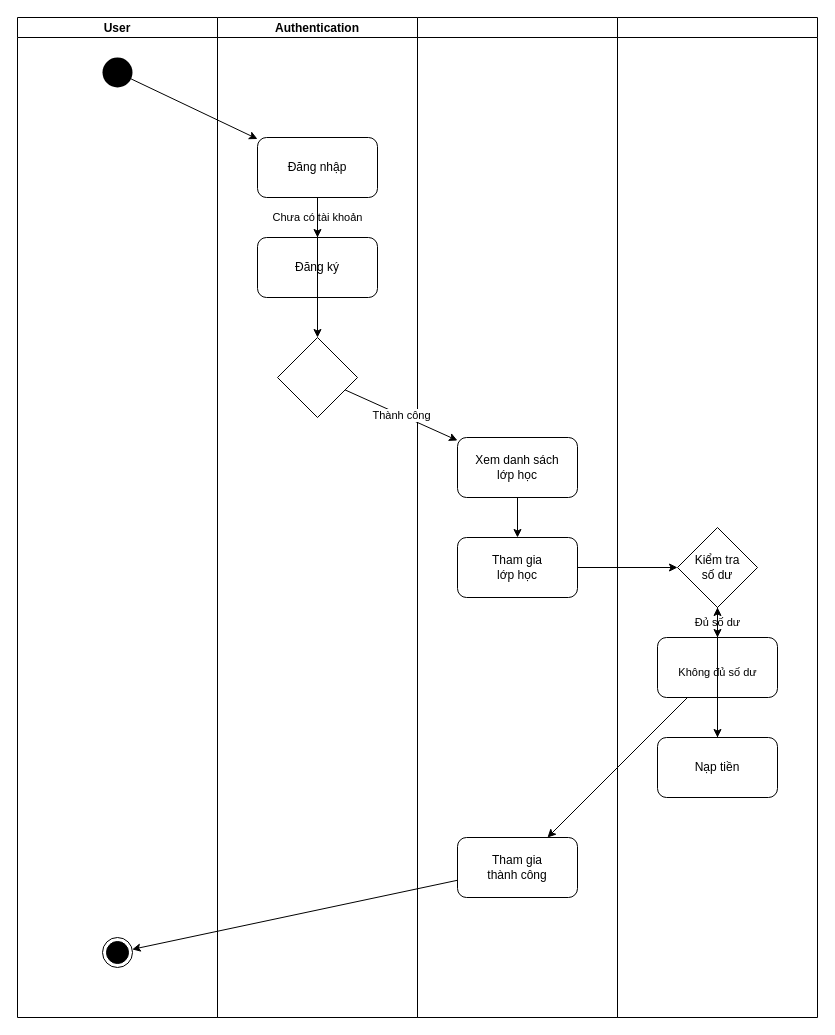
The diagram is 835 pixels wide and 1035 high, and some of its shapes have lost their labels. Each missing label, with the box of its shape:
Class Management: (416, 16, 618, 1018)
Kiểm tra xác thực: (276, 336, 358, 418)
Payment System: (616, 16, 818, 1018)
Thanh toán: (656, 636, 778, 698)
